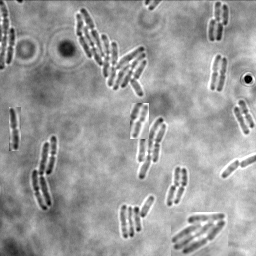Dividing: (130, 103, 149, 139), (9, 107, 21, 151), (175, 167, 189, 204), (238, 99, 255, 128), (209, 54, 222, 90), (217, 56, 228, 92), (7, 27, 17, 64)
Microcolony: (76, 7, 147, 98), (171, 212, 228, 256), (137, 117, 168, 180), (32, 135, 57, 211), (120, 195, 155, 238), (208, 1, 229, 42)
Rod: (233, 106, 251, 135), (222, 157, 240, 178), (167, 184, 177, 206), (174, 166, 183, 187)
